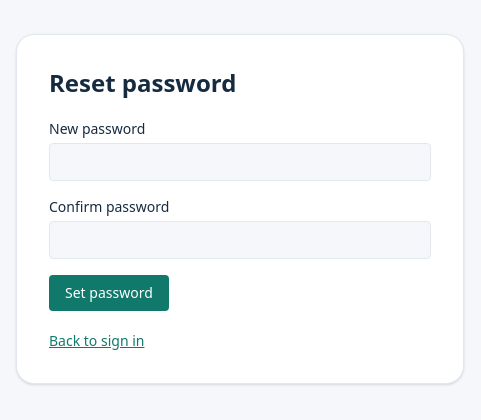
Test case: rejects mismatched confirmation without sending a request
Type "New-password-123!" into the password field labelled "New password" at (240, 162), box [49,143,431,181]
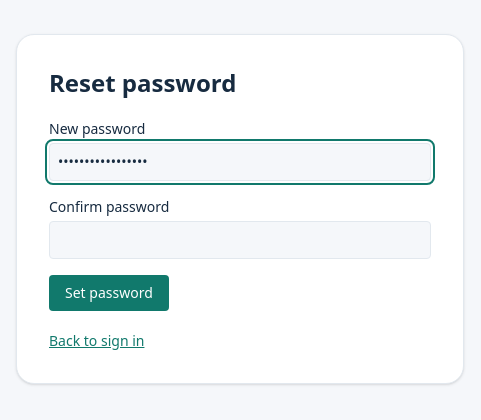
Type "Different-password-123!" into the password field labelled "Confirm password" at (240, 240), box [49,221,431,259]
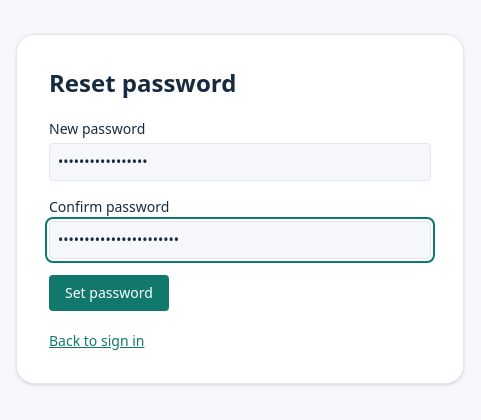
Click the button "Set password" at (109, 293), box [49,275,169,311]
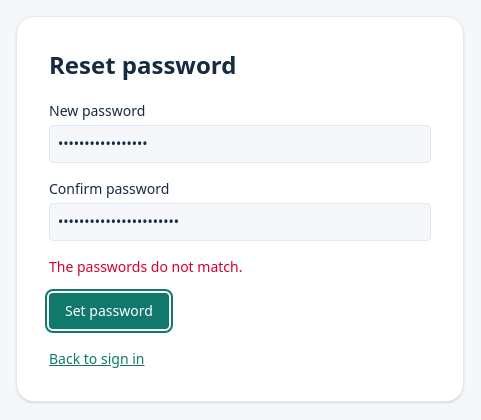
Result: the message reads "The passwords do not match." at [49,257,242,276]
